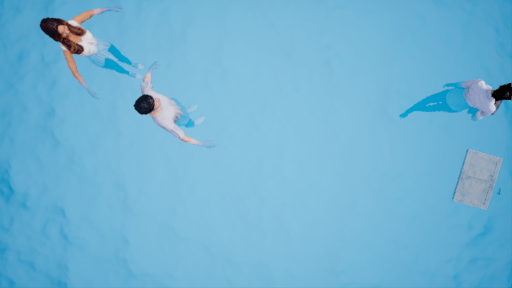person: (41, 10, 139, 96), (134, 66, 221, 145), (405, 70, 512, 126)
